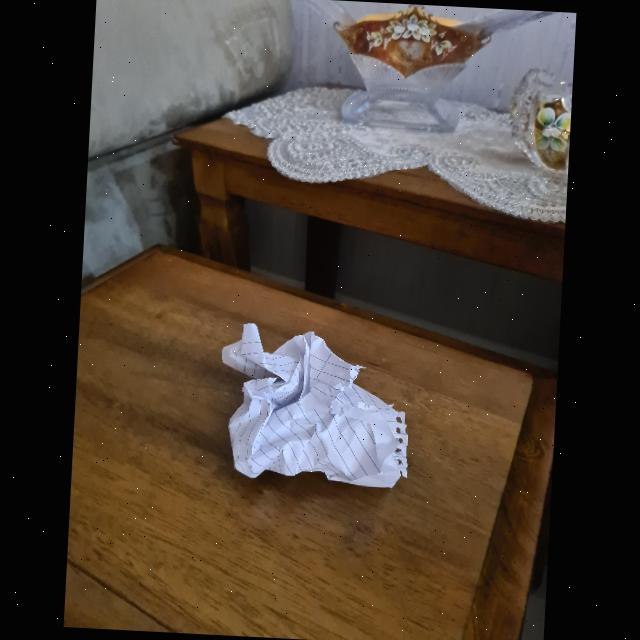trash: (212, 319, 414, 492)
